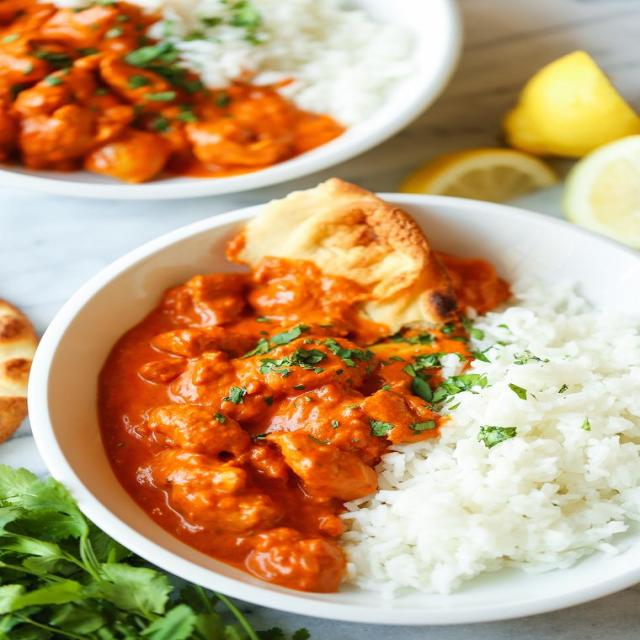chicken: (98, 194, 469, 582), (3, 1, 244, 160)
rice: (390, 325, 634, 604), (186, 0, 416, 110)
